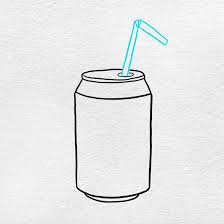can: (73, 69, 156, 204)
